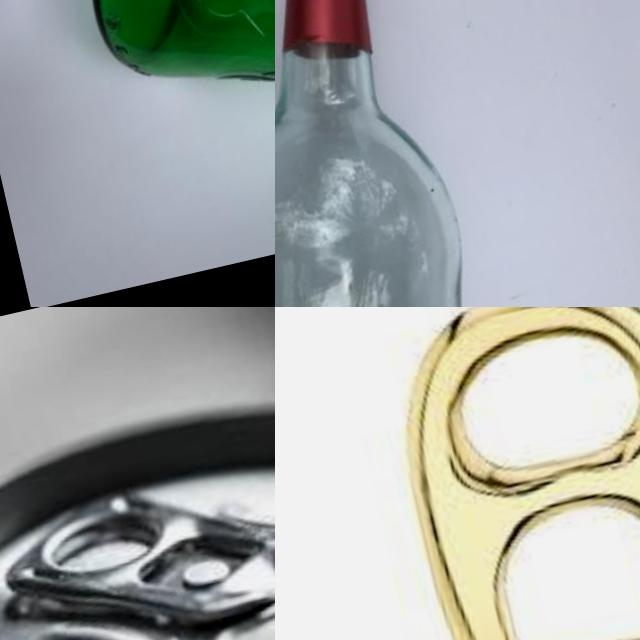aba de lata: (375, 307, 640, 640), (0, 451, 275, 640)
garrafa de vidro: (275, 0, 500, 307), (70, 0, 275, 210)
lata: (0, 361, 275, 640)
